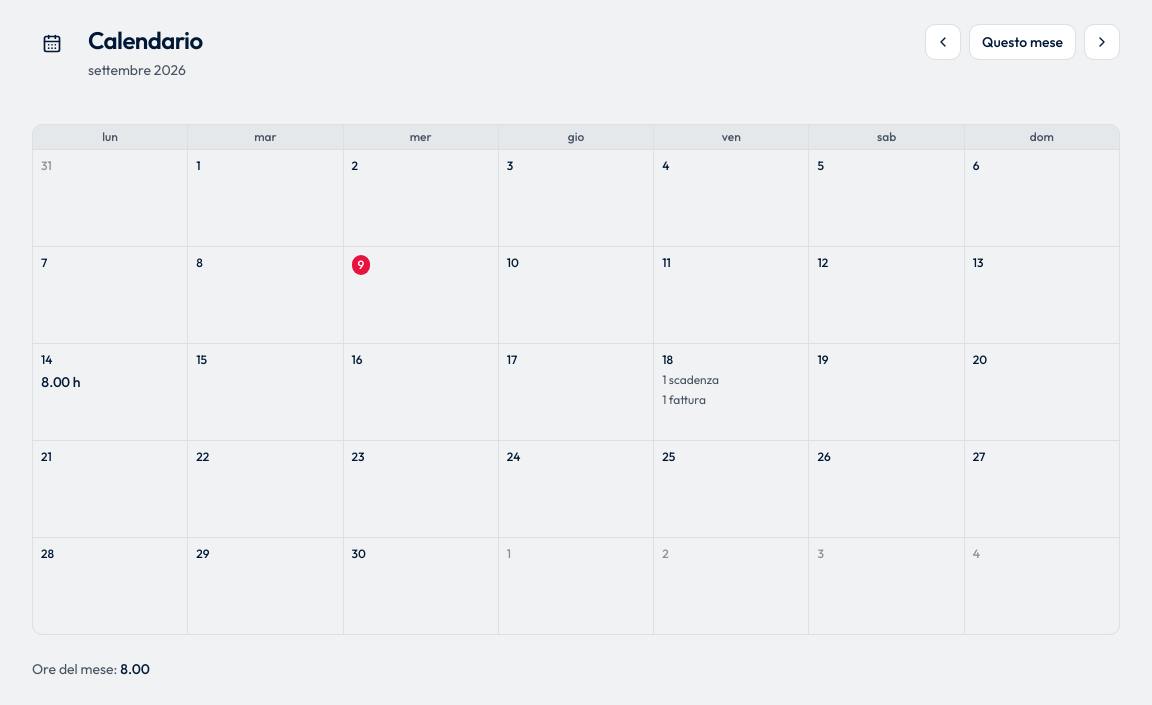
Scenario: CalendarPage › refuses to send hours that are not hours, and says what one looks like
This screenshot has width=1152, height=705.
Step 1. Click the button named "14/09/2026:" → (110, 392), box [33,344,187,440]
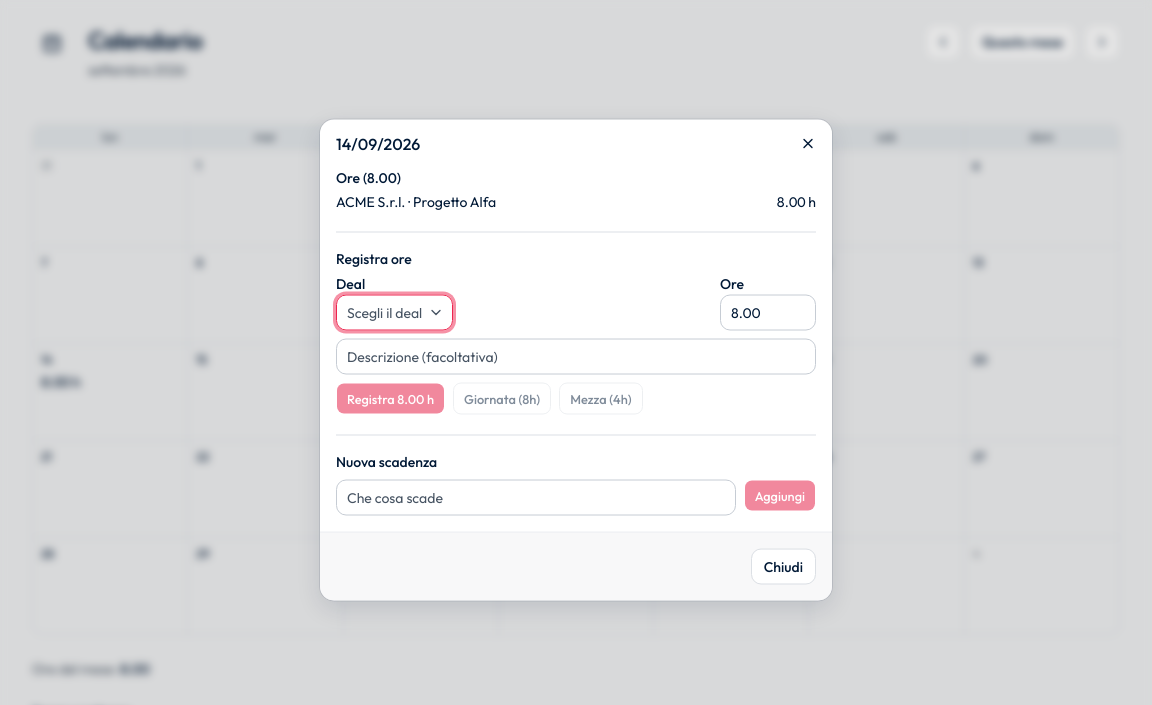
Check: the dialog is shown, box [320,120,832,600]
Step 2. Click the dropdown labelled "deal" → (395, 312), box [336,294,453,330]
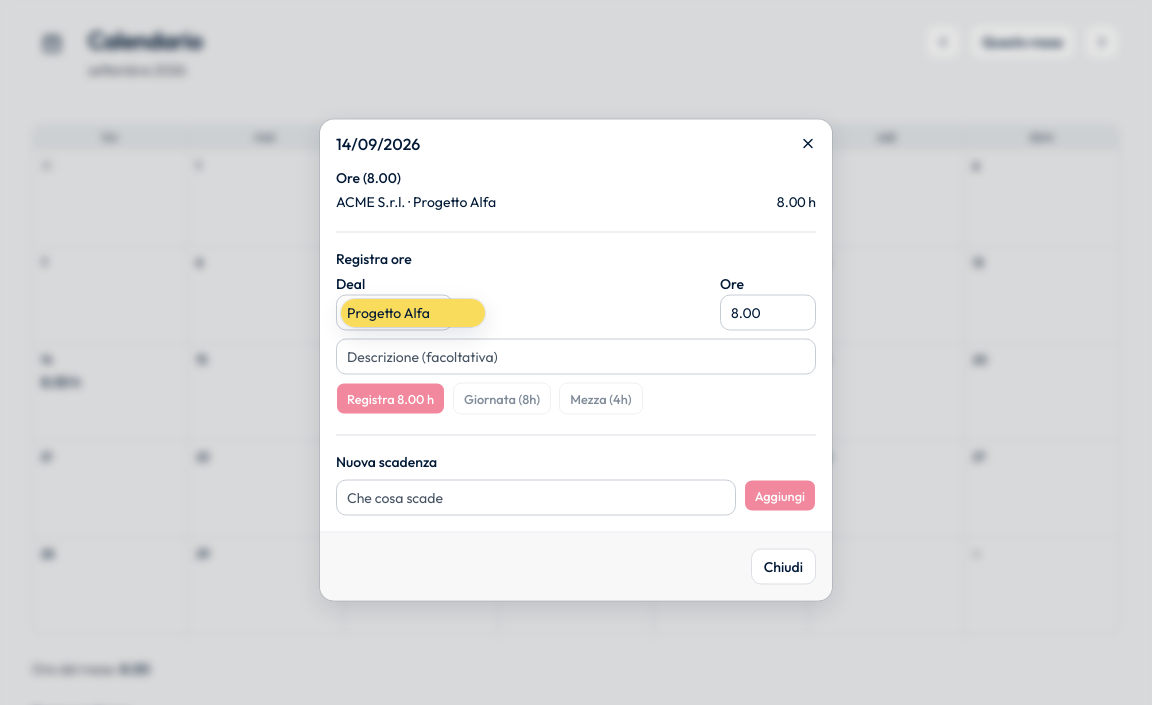
Step 3. Click the option "Progetto Alfa" → (413, 312), box [341,298,485,326]
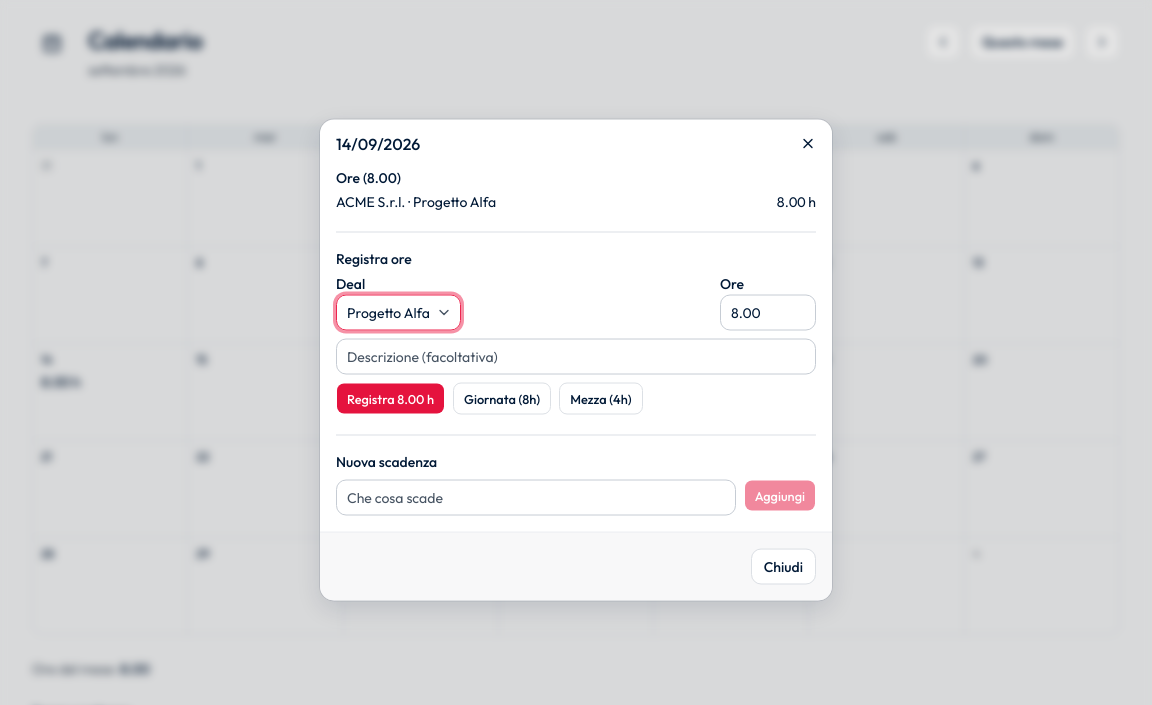
Step 4. Replace the text in the field labelled "Ore" with "otto" → (768, 312), box [720,294,816,330]
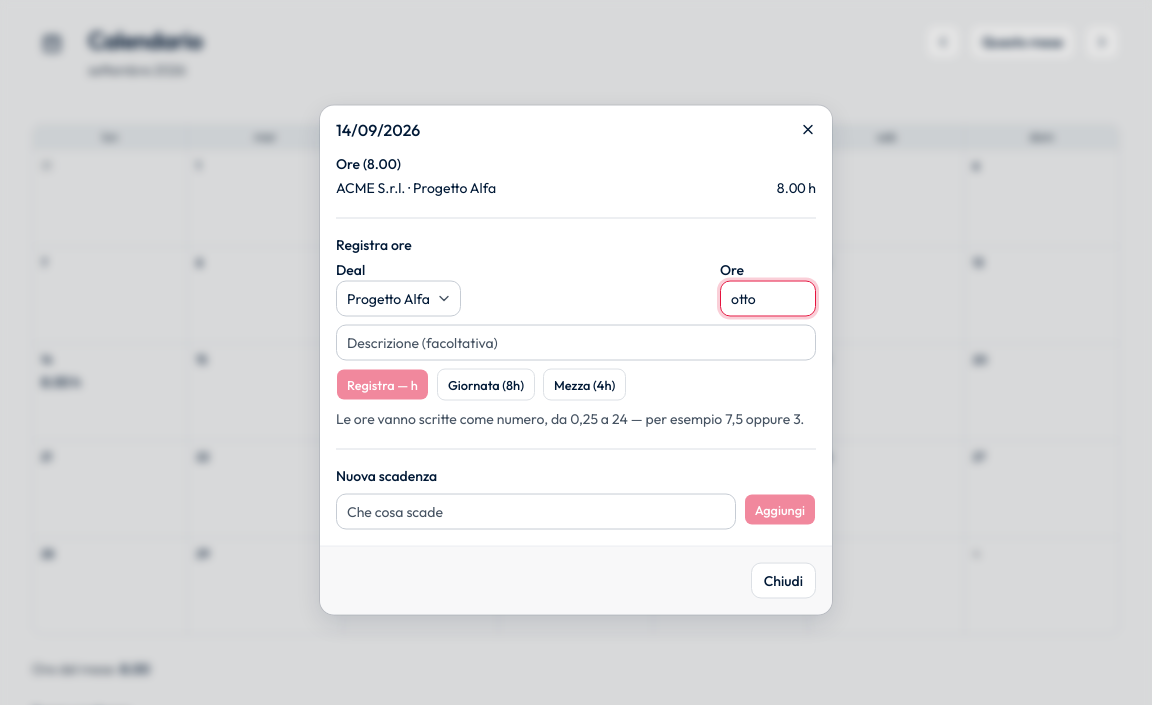
Check: the button "Registra — h" is disabled, box [336,368,429,400]
Check: the text "da 0,25 a 24" is shown, box [336,410,804,428]
